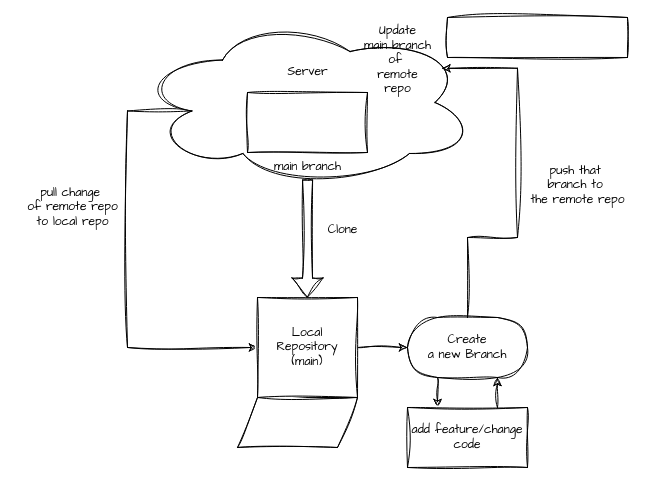
The diagram is 654 pixels wide and 485 high, and some of its shapes have lost their labels. Here are the shapes that lost their labels. From the top down, the box of each, then its label:
(446, 16, 628, 58): Create pull req & merge
(246, 92, 368, 152): Remote Repository
